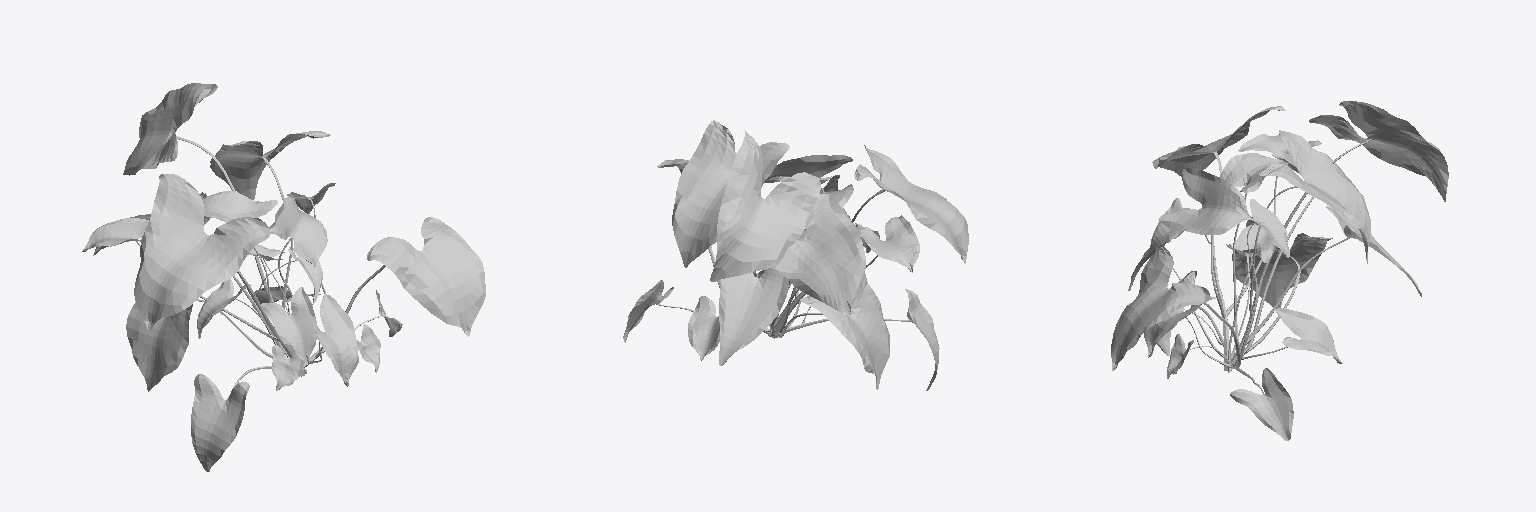
File: potted_plant_leaves.obj
The picture shows the model from 3 angles: view 1: azimuth 30°, elevation 25°; view 2: azimuth 150°, elevation 25°; view 3: azimuth 270°, elevation 25°; orthographic projection.
Parts seen in each view (by area): view 1: potted_plant_02_leaves_Circle.001; view 2: potted_plant_02_leaves_Circle.001; view 3: potted_plant_02_leaves_Circle.001.
Part boxes in pixels (bbox=[...]): potted_plant_02_leaves_Circle.001: bbox=[82, 83, 485, 471]; potted_plant_02_leaves_Circle.001: bbox=[623, 120, 968, 390]; potted_plant_02_leaves_Circle.001: bbox=[1111, 101, 1448, 440].
Bounding box in the file's own units: 0.7012 × 0.6326 × 0.6432.